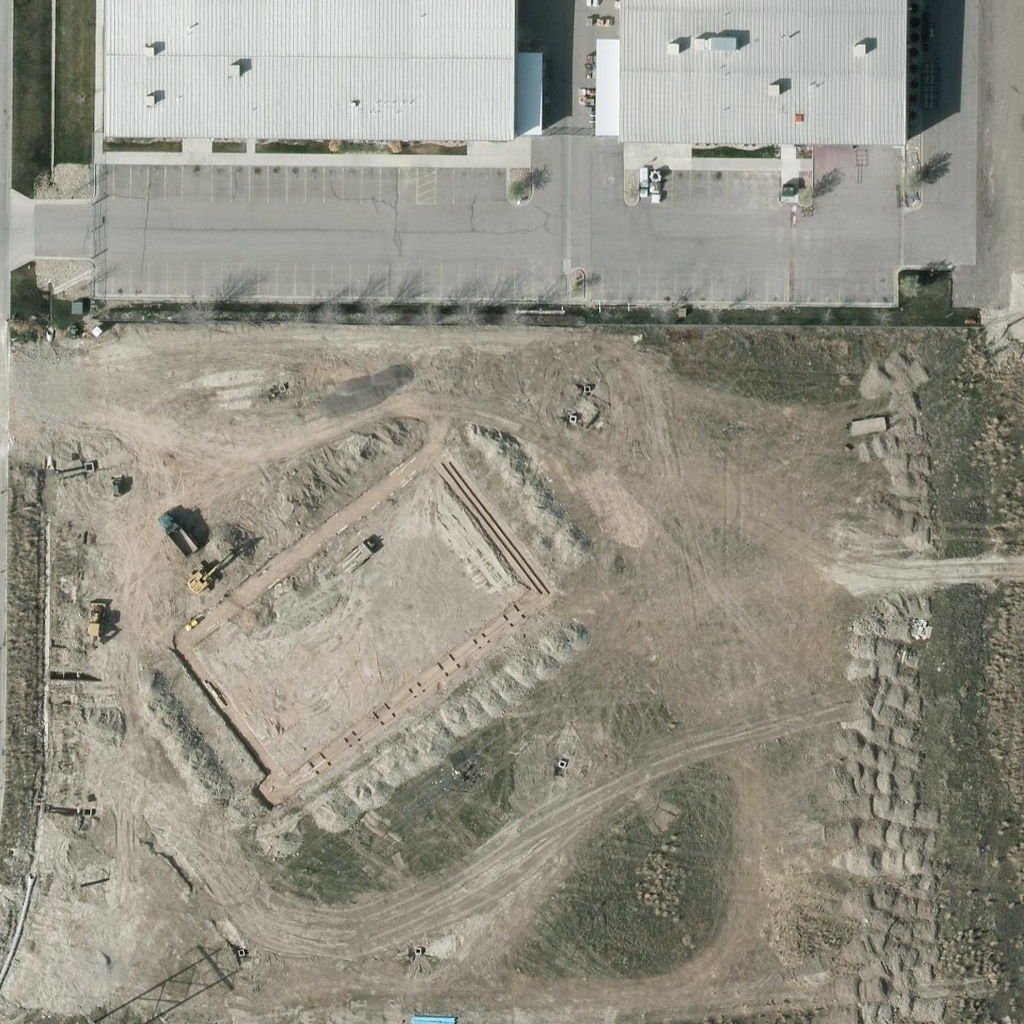other: (189, 548, 235, 590), (87, 602, 104, 644)
